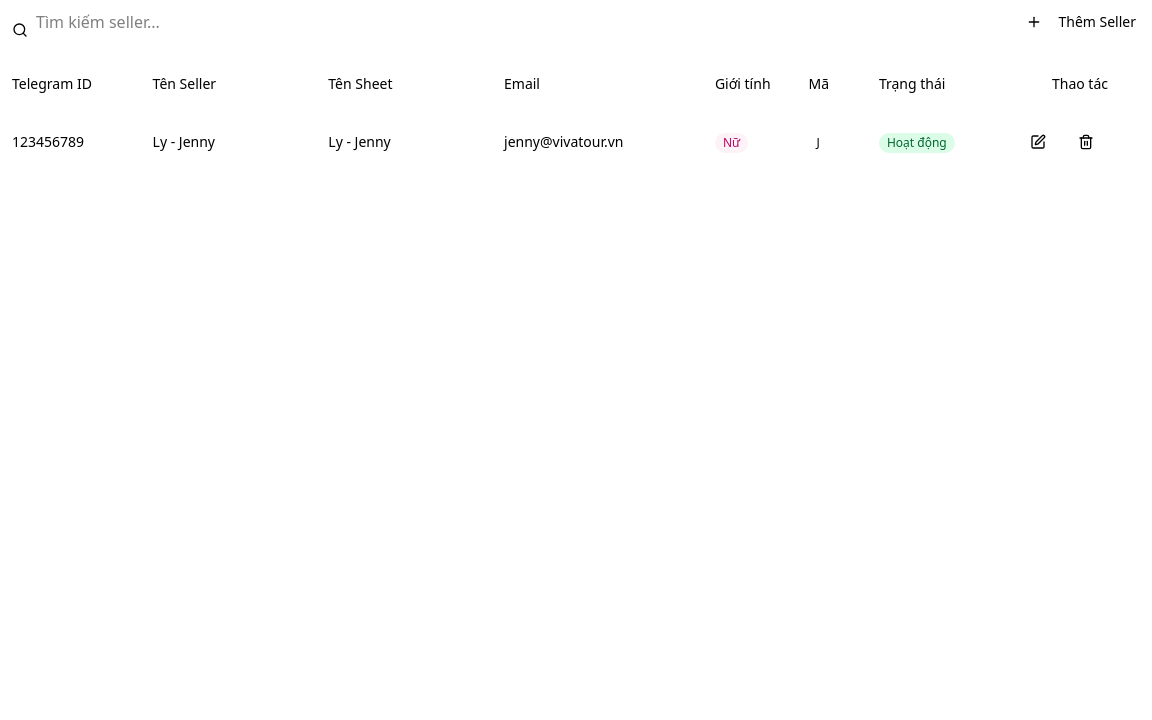
Test: SellerTable › CRUD Operations › shows delete confirmation dialog on delete click
This screenshot has width=1152, height=720.
Step 1. Click the button titled "Xóa" → (1086, 142), box [1064,120,1108,164]
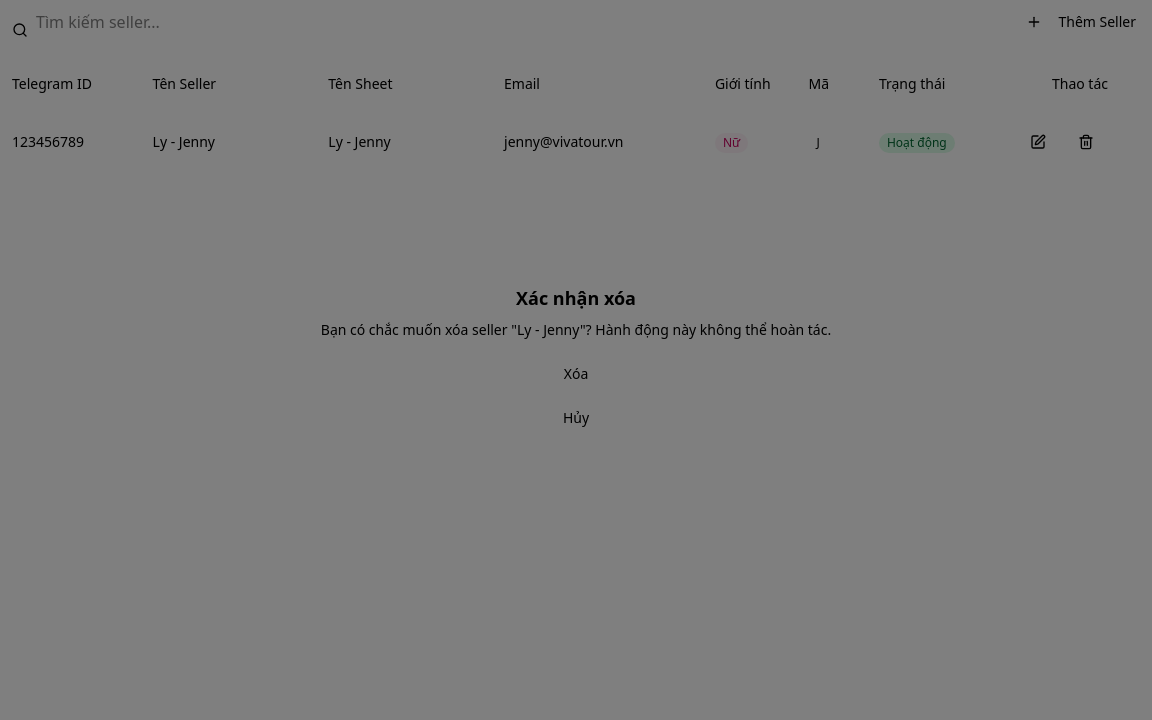
Expected: the heading "Xác nhận xóa" is shown, [516,286,636,310]
Expected: the text "Bạn có chắc muốn xóa seller" is shown, [321,320,517,339]
